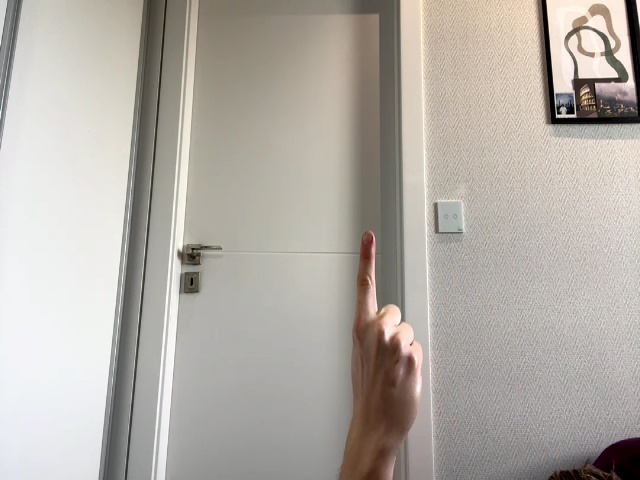D: (353, 232, 422, 446)
